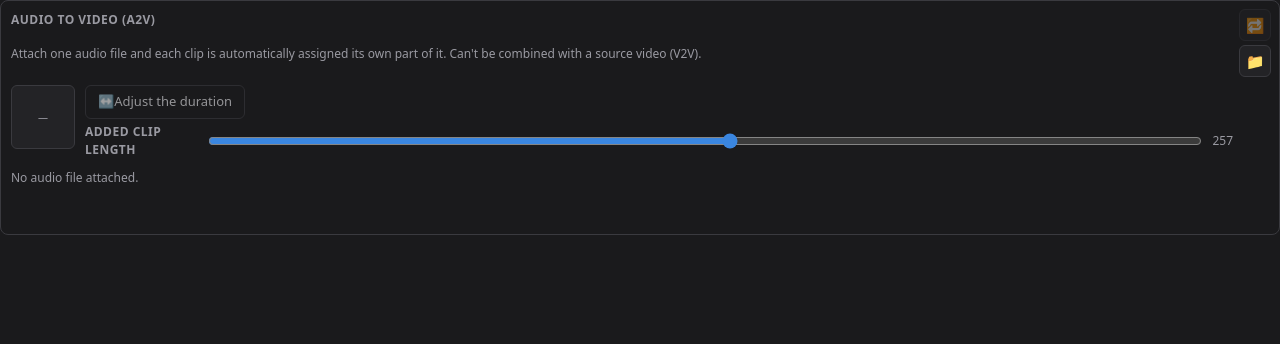
it: ChainAudioPanel (§1-16 長尺A2V) › the three attach states › 📁 attaches whatever the native dialog returned
This screenshot has width=1280, height=344.
Click the button named "Choose audio file…" at (1255, 61), box [1239,45,1271,77]
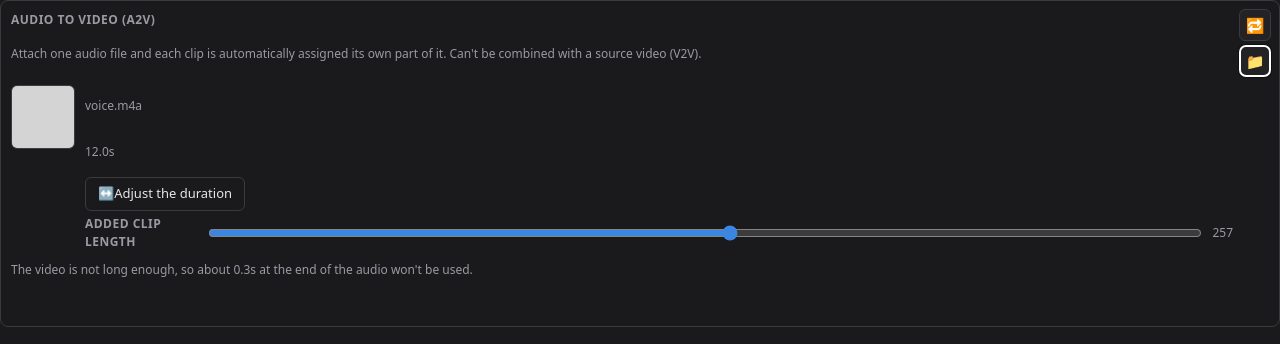
Expected: the text "voice.m4a" is shown, [85,97,142,114]
